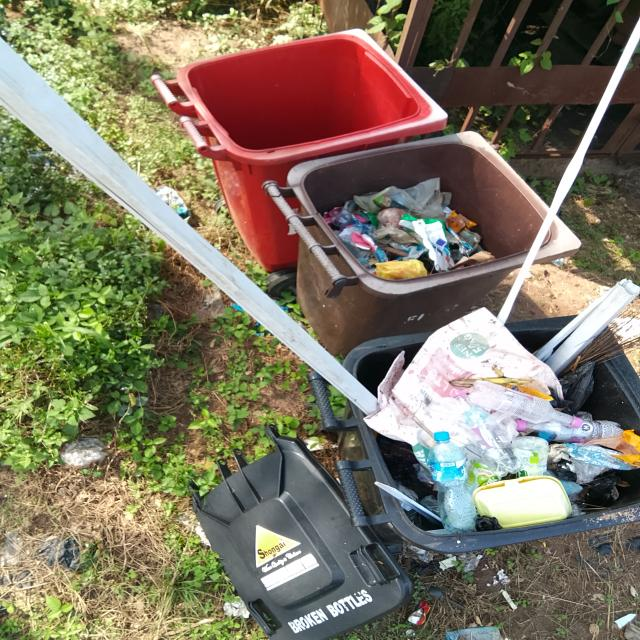half-full: (282, 129, 588, 292), (171, 27, 448, 157)
overflowing: (332, 316, 640, 556)
